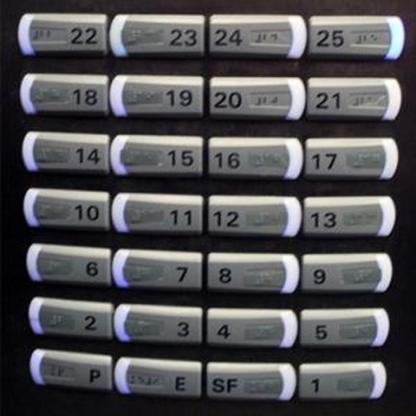1: (296, 360, 386, 402)
10: (21, 185, 111, 233)
11: (110, 189, 204, 236)
12: (204, 193, 302, 239)
13: (303, 193, 396, 240)
14: (20, 128, 111, 174)
15: (109, 131, 204, 178)
16: (204, 134, 303, 180)
17: (302, 136, 397, 181)
18: (17, 72, 110, 117)
19: (108, 71, 207, 118)
2: (26, 293, 116, 340)
20: (206, 72, 307, 122)
21: (306, 74, 401, 122)
22: (16, 12, 107, 56)
23: (107, 12, 206, 57)
24: (206, 12, 308, 59)
25: (308, 14, 406, 61)
3: (111, 301, 204, 346)
4: (204, 304, 297, 350)
5: (297, 306, 390, 348)
6: (22, 239, 114, 288)
7: (110, 247, 205, 292)
8: (204, 248, 300, 294)
9: (300, 252, 392, 294)
E: (112, 353, 202, 400)
P: (27, 346, 114, 392)
SF: (203, 359, 295, 403)
